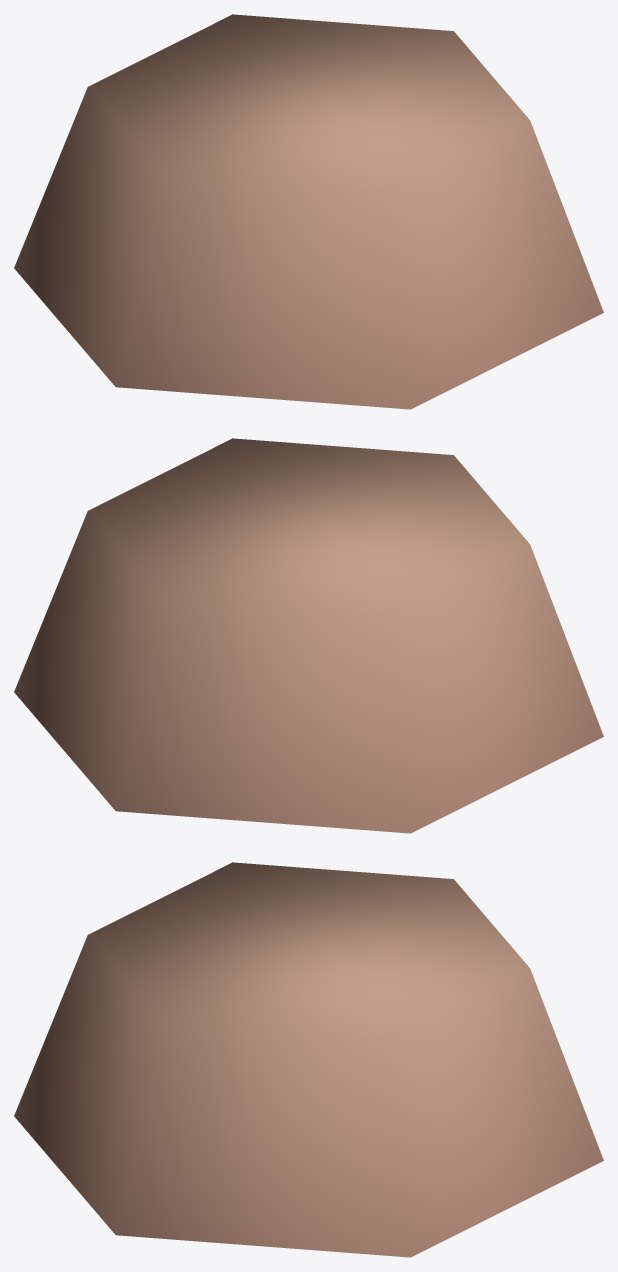
File: (%no-merge) 19.glb
3 renders of one model, top to bottom at view 1: azimuth 30°, elevation 25°; view 2: azimuth 150°, elevation 25°; view 3: azimuth 270°, elevation 25°, orthographic.
Visible parts, largest first — view 1: (%no-merge) 19; view 2: (%no-merge) 19; view 3: (%no-merge) 19.
Part boxes in pixels (x1=…): (%no-merge) 19: x1=14, y1=14, x2=603, y2=409; (%no-merge) 19: x1=14, y1=438, x2=603, y2=833; (%no-merge) 19: x1=14, y1=862, x2=603, y2=1257.
Bounding box in the file's own units: 0.0394 × 0.0144 × 0.0412.
